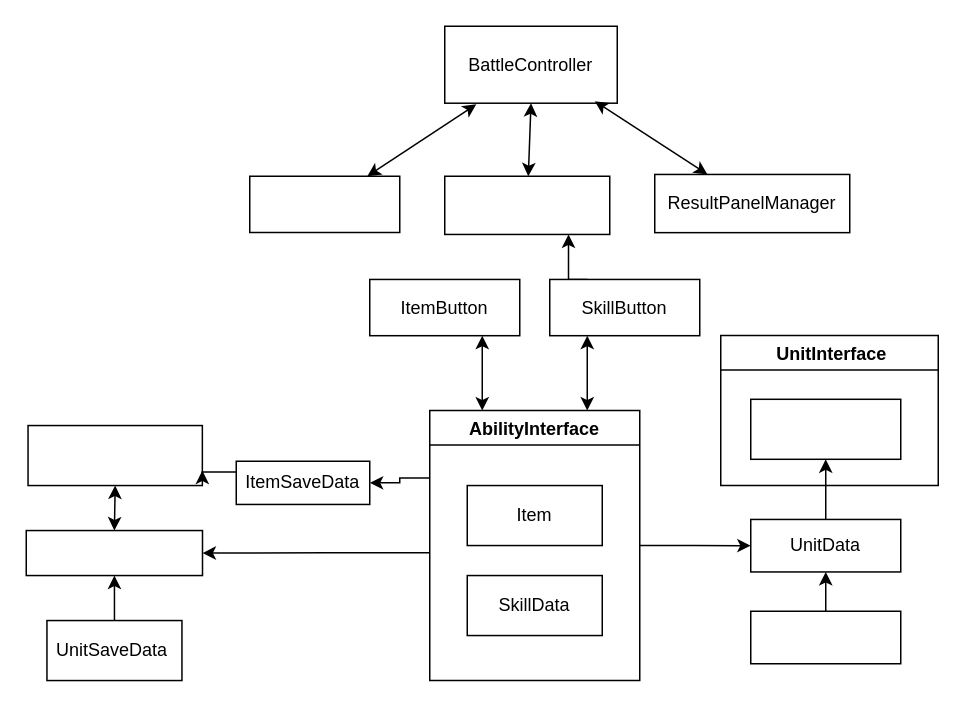
Image size: 965x708. Some labels were removed from this diagram. The shapes that lost their labels are listed below. From the top down, each one's centre as x and y in pixels, then its label:
At pixel 324 203: "RoundManager".
At pixel 526 204: "PanelController".
At pixel 825 428: "UnitController".
At pixel 114 455: "SaveDataManager".
At pixel 113 552: "SquadData".
At pixel 825 637: "LevelBonus".
